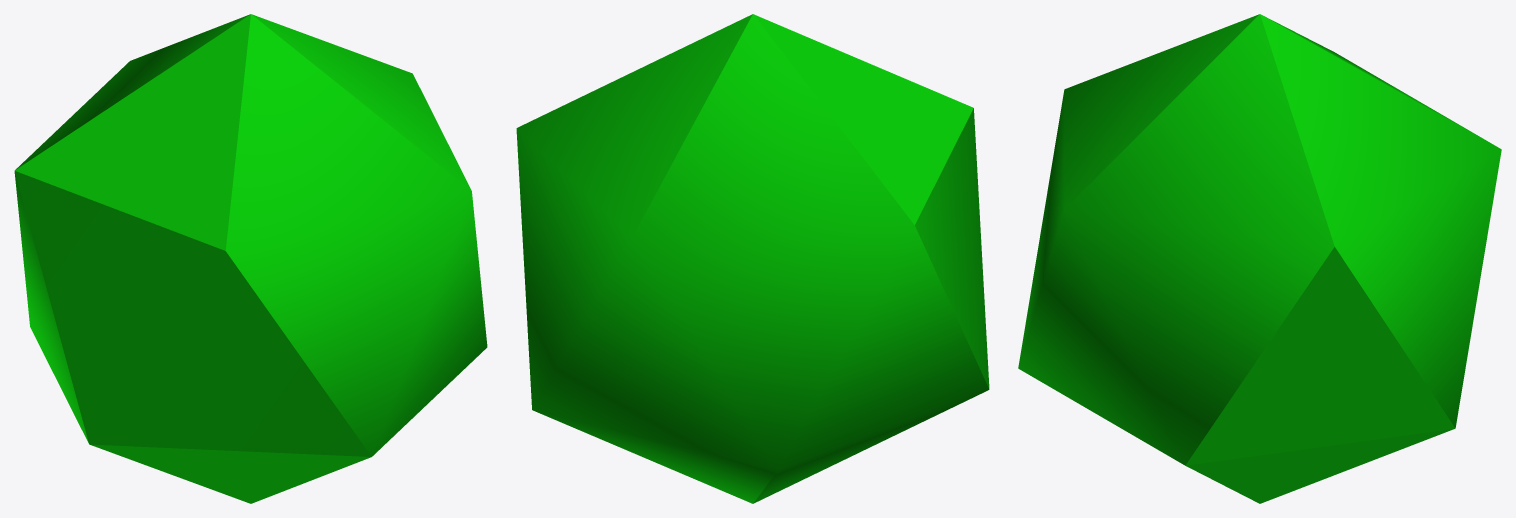
The model's file is 5.SP-Icosaedro.gltf.
The picture shows the model from 3 angles, left to right: view 1: azimuth 30°, elevation 25°; view 2: azimuth 150°, elevation 25°; view 3: azimuth 270°, elevation 25°; orthographic projection.
Parts seen in each view (by area): view 1: 5.SP Icosaedro; view 2: 5.SP Icosaedro; view 3: 5.SP Icosaedro.
Boxes of the visible parts, bbox=[...] form: 5.SP Icosaedro: bbox=[14, 14, 487, 503]; 5.SP Icosaedro: bbox=[516, 14, 989, 503]; 5.SP Icosaedro: bbox=[1018, 14, 1501, 503].
Size of the model in its own units: 0.0724 by 0.0851 by 0.0761.
